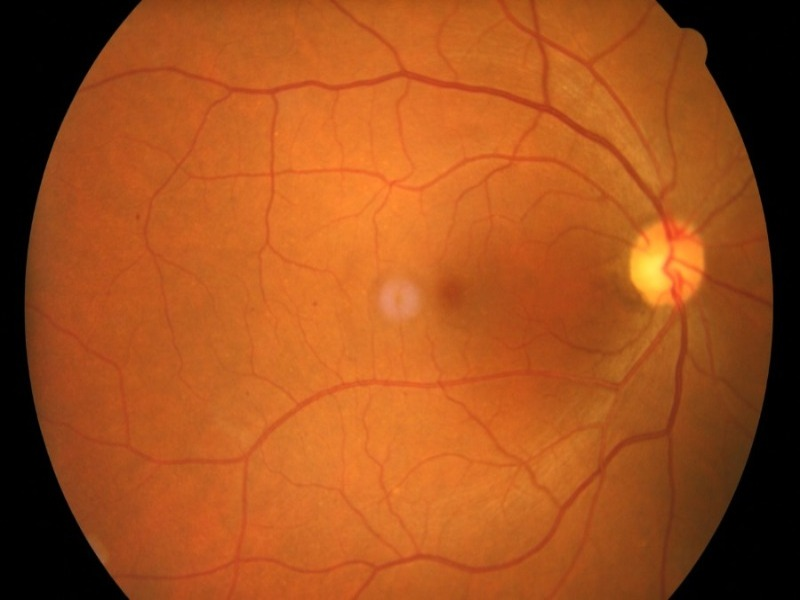Optic Cup: (633, 249, 668, 290)
Optic Disc: (629, 221, 703, 304)
